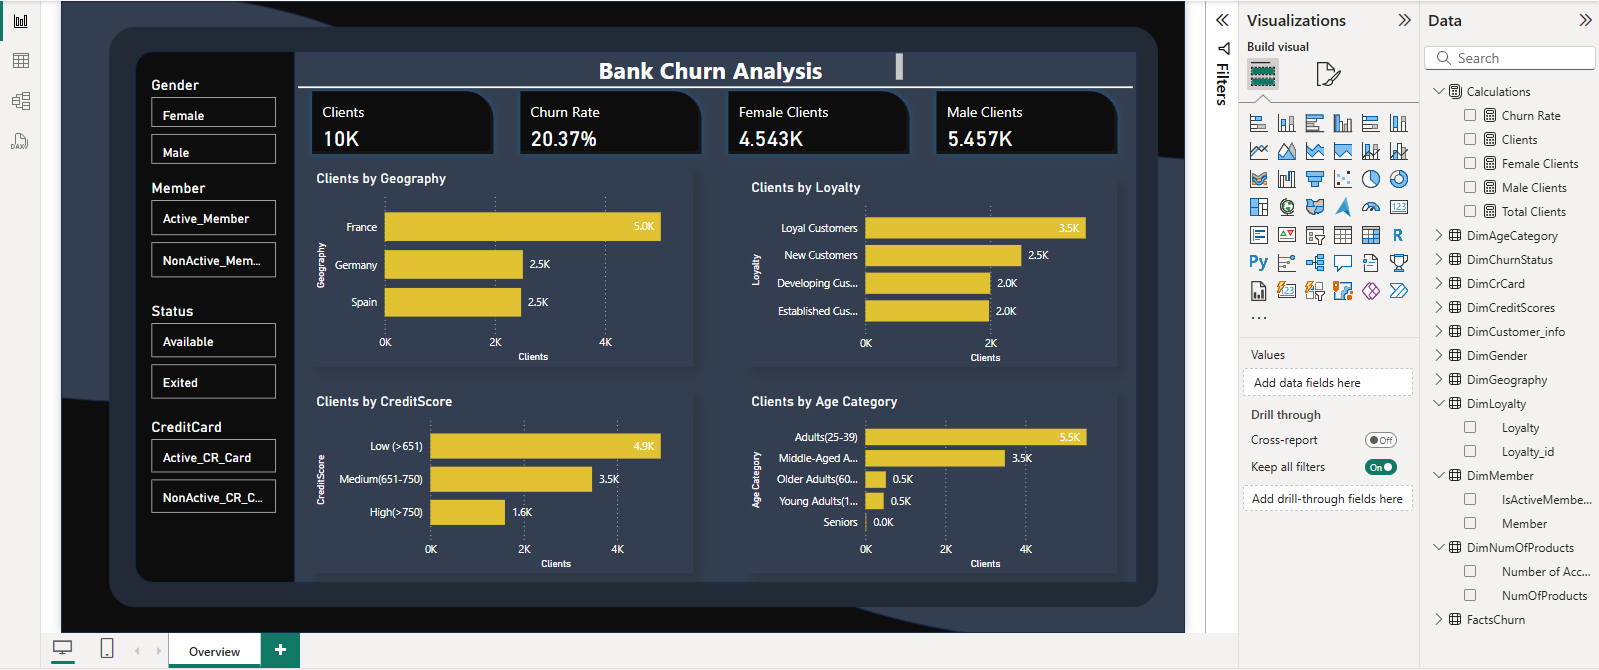

The dashboard page shown, as its layout file describes it:
{"tool":"powerbi","page":{"name":"Overview","canvas":[1280,720],"ordinal":0},"visuals":[{"type":"cardVisual","fields":{"Data":["Calculations.Clients","Calculations.Churn Rate","Calculations.Female Clients","Calculations.Male Clients"]},"box":[269.7,86.5,951,105.8],"z":0},{"type":"textbox","box":[524.1,54.7,437.5,43.3],"z":1000},{"type":"shape","box":[269.9,79.7,951,37.3],"z":2000},{"type":"clusteredBarChart","fields":{"Category":["DimGeography.Geography"],"Y":["Calculations.Clients"]},"box":[285.9,192.5,434.1,224.4],"z":3000},{"type":"clusteredBarChart","fields":{"Category":["DimAgeCategory.Age_Category"],"Y":["Calculations.M"]},"box":[781.9,446.5,420.6,205.2],"z":4000},{"type":"advancedSlicerVisual","fields":{"Values":["DimMember.Member"]},"box":[98.1,202.6,152.3,117.4],"z":5000},{"type":"advancedSlicerVisual","fields":{"Values":["DimGender.Gender"]},"box":[98,85.4,152.7,105.9],"z":6000},{"type":"clusteredBarChart","fields":{"Category":["DimCreditScores.CreditScore_Range"],"Y":["Calculations.Clients"]},"box":[286.5,446.5,433.5,205.2],"z":7000},{"type":"advancedSlicerVisual","fields":{"Values":["DimCrCard.CreditCard"]},"box":[98,475.1,152.7,121.9],"z":8000},{"type":"clusteredBarChart","fields":{"Category":["DimNumOfProducts.Count_Accounts"],"Y":["Calculations.M"]},"box":[781.9,202.6,420.6,214.2],"z":9000},{"type":"advancedSlicerVisual","fields":{"Values":["DimChurnStatus.Status"]},"box":[98,342.9,152.7,116.2],"z":10000}]}

Visuals, with their boxes on the page's 1280x720 design canvas (x1, y1, x2, y2). These are canvas units, not pixel positions in the 1599x670 screenshot, which may show the page scaled, cropped or inside an application window:
cardVisual - Calculations.Clients x Calculations.Churn Rate: x1=270, y1=86, x2=1221, y2=192
textbox: x1=524, y1=55, x2=962, y2=98
shape: x1=270, y1=80, x2=1221, y2=117
clusteredBarChart - DimGeography.Geography x Calculations.Clients: x1=286, y1=192, x2=720, y2=417
clusteredBarChart - DimAgeCategory.Age_Category x Calculations.M: x1=782, y1=446, x2=1202, y2=652
advancedSlicerVisual - DimMember.Member: x1=98, y1=203, x2=250, y2=320
advancedSlicerVisual - DimGender.Gender: x1=98, y1=85, x2=251, y2=191
clusteredBarChart - DimCreditScores.CreditScore_Range x Calculations.Clients: x1=286, y1=446, x2=720, y2=652
advancedSlicerVisual - DimCrCard.CreditCard: x1=98, y1=475, x2=251, y2=597
clusteredBarChart - DimNumOfProducts.Count_Accounts x Calculations.M: x1=782, y1=203, x2=1202, y2=417
advancedSlicerVisual - DimChurnStatus.Status: x1=98, y1=343, x2=251, y2=459
